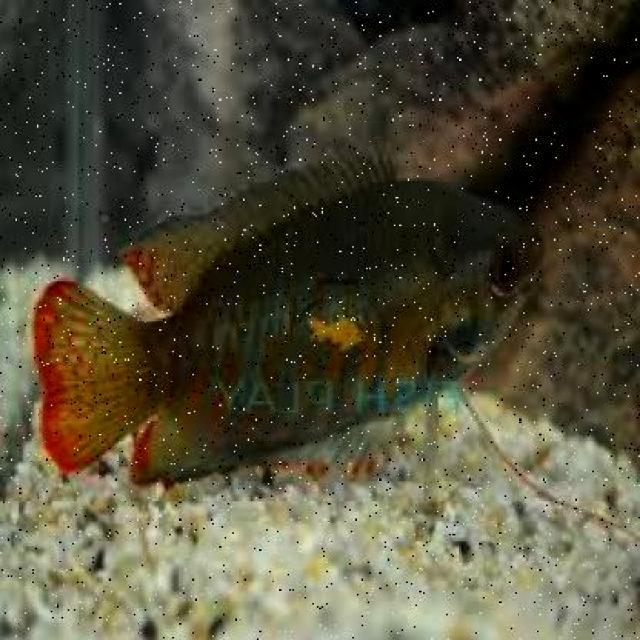gurame: (49, 170, 548, 486)
